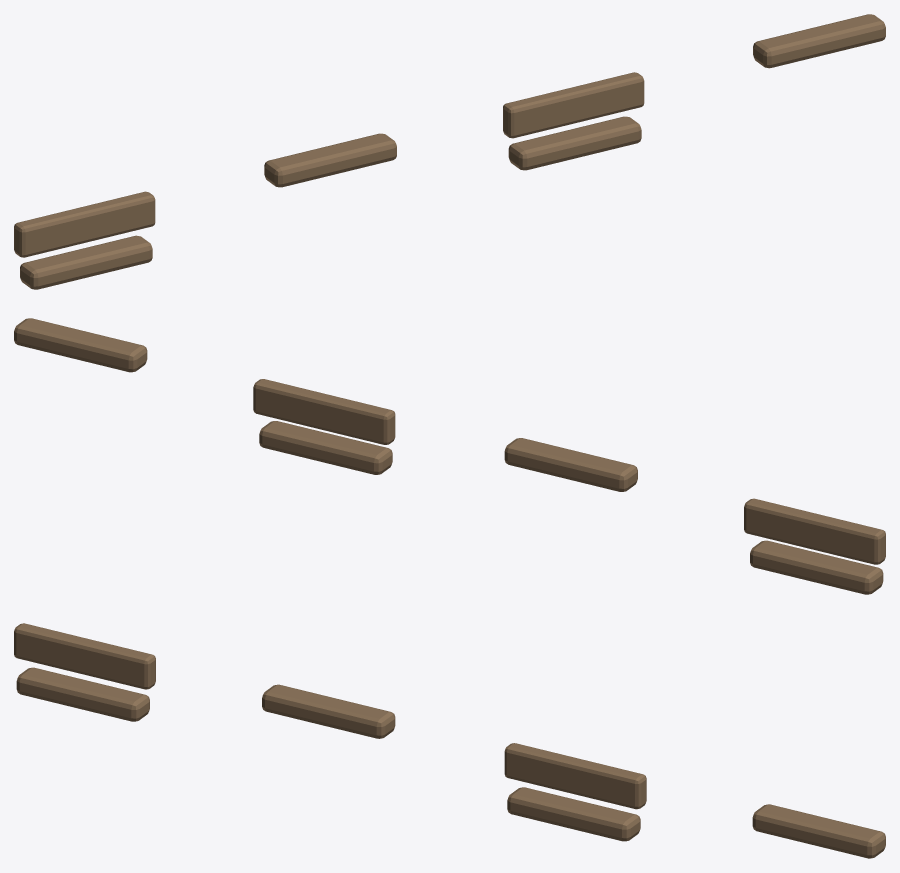
Rendered from HokageFaces_HokageRockDark.fbx.
3 renders of one model, top to bottom at view 1: azimuth 30°, elevation 25°; view 2: azimuth 150°, elevation 25°; view 3: azimuth 330°, elevation 25°, orthographic.
Visible parts, largest first — view 1: Brow0.001; view 2: Brow0.001; view 3: Brow0.001.
Part boxes in pixels (box(x1,y1,x2,y2)): Brow0.001: box(14, 14, 885, 289); Brow0.001: box(14, 318, 885, 594); Brow0.001: box(14, 623, 885, 858).
Bounding box in the file's own units: 6350 × 440 × 200.
